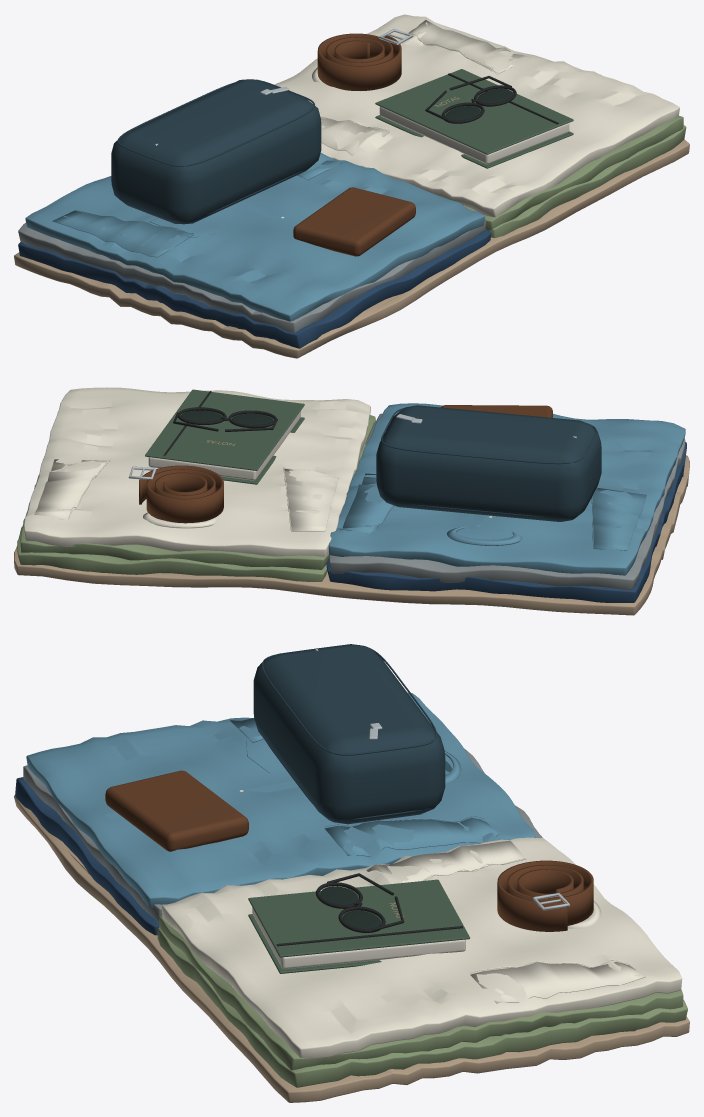
Rendered from roupas_mala.glb.
The picture shows the model from 3 angles, top to bottom: view 1: azimuth 30°, elevation 25°; view 2: azimuth 150°, elevation 25°; view 3: azimuth 270°, elevation 25°; orthographic projection. The views are drawn at different scales.
Visible parts, largest first — view 1: Camisa azul dobrada superior, Camiseta marfim superior, Necessaire de viagem, Toalha de linho na base, Jeans dobrado esquerdo, Capa superior do caderno, Malha cinza intermediaria, Carteira de couro, Cinto de couro enrolado, Manga dobrada para dentro.002, Camiseta oliva intermediaria, Calca de sarja dobrada direita (+5 smaller); view 2: Camiseta marfim superior, Necessaire de viagem, Camisa azul dobrada superior, Toalha de linho na base, Capa superior do caderno, Malha cinza intermediaria, Jeans dobrado esquerdo, Calca de sarja dobrada direita, Cinto de couro enrolado, Camiseta oliva intermediaria, Manga dobrada para dentro.002, Manga dobrada para dentro.005 (+12 smaller); view 3: Camiseta marfim superior, Camisa azul dobrada superior, Necessaire de viagem, Toalha de linho na base, Capa superior do caderno, Calca de sarja dobrada direita, Camiseta oliva intermediaria, Carteira de couro, Cinto de couro enrolado, Manga dobrada para dentro.005, Jeans dobrado esquerdo, Manga dobrada para dentro.003 (+5 smaller).
Part boxes in pixels (x1,y1,x2,y2): Camisa azul dobrada superior: (25, 153, 485, 321); Camiseta marfim superior: (274, 14, 679, 217); Necessaire de viagem: (111, 79, 321, 224); Toalha de linho na base: (14, 139, 689, 358); Jeans dobrado esquerdo: (18, 229, 491, 348); Capa superior do caderno: (375, 69, 573, 154); Malha cinza intermediaria: (18, 218, 485, 332); Carteira de couro: (293, 187, 415, 256); Cinto de couro enrolado: (317, 33, 401, 90); Manga dobrada para dentro.002: (52, 210, 193, 257); Camiseta oliva intermediaria: (464, 115, 683, 230); Calca de sarja dobrada direita: (488, 125, 686, 237); Camiseta marfim superior: (24, 387, 370, 556); Necessaire de viagem: (376, 405, 601, 521); Camisa azul dobrada superior: (328, 403, 685, 575); Toalha de linho na base: (14, 455, 689, 615); Capa superior do caderno: (145, 389, 304, 470); Malha cinza intermediaria: (329, 413, 685, 590); Jeans dobrado esquerdo: (326, 442, 686, 602); Calca de sarja dobrada direita: (17, 503, 327, 581); Cinto de couro enrolado: (139, 465, 223, 523); Camiseta oliva intermediaria: (20, 415, 375, 569); Manga dobrada para dentro.002: (592, 488, 646, 550); Manga dobrada para dentro.005: (34, 459, 109, 519); Camiseta marfim superior: (161, 837, 682, 1059); Camisa azul dobrada superior: (26, 692, 535, 907); Necessaire de viagem: (253, 644, 445, 824); Toalha de linho na base: (14, 795, 689, 1102); Capa superior do caderno: (248, 879, 469, 957); Calca de sarja dobrada direita: (157, 927, 687, 1087); Camiseta oliva intermediaria: (159, 916, 683, 1070); Carteira de couro: (105, 770, 248, 851); Cinto de couro enrolado: (497, 860, 593, 931); Manga dobrada para dentro.005: (470, 961, 645, 1003); Jeans dobrado esquerdo: (15, 777, 159, 935); Manga dobrada para dentro.003: (324, 817, 498, 856).
Size of the model in its own units: 0.7074 by 0.1414 by 0.5595.
